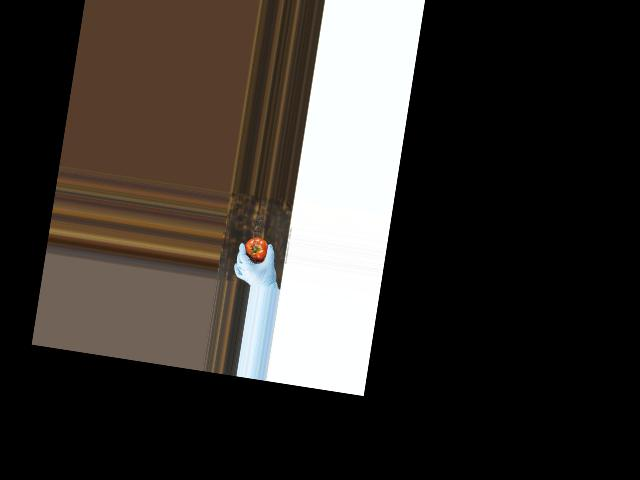tomato: (243, 235, 269, 263)
